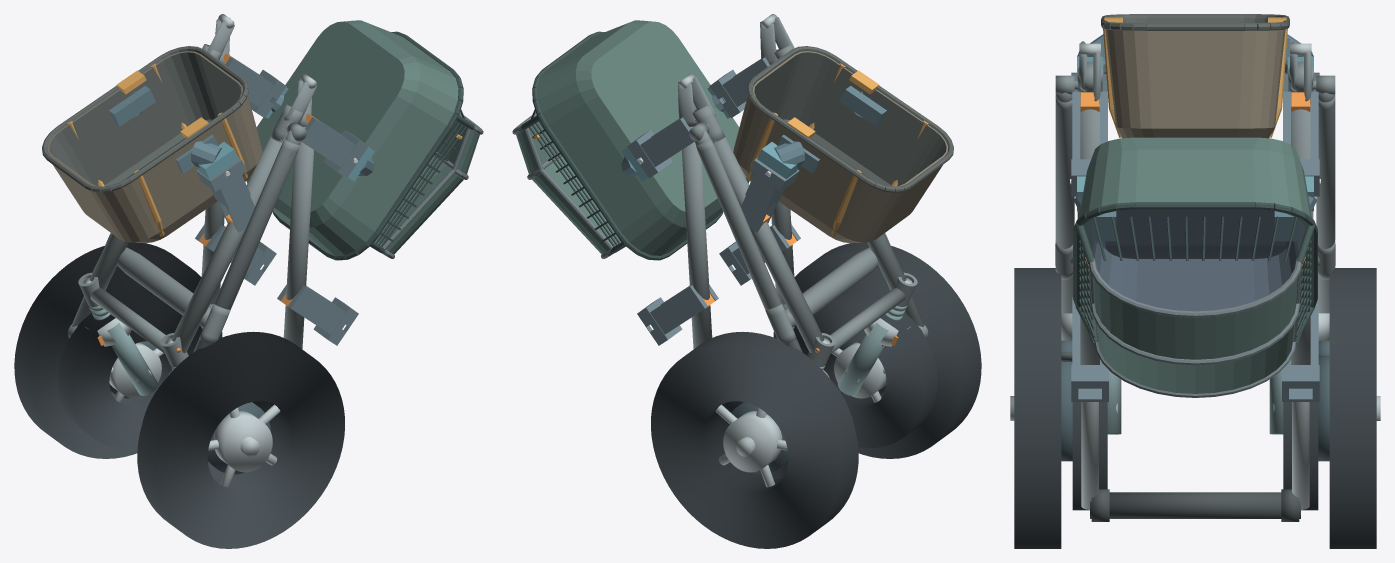
File: D35_w380_state3_wheel_L.glb
3 views of the same model, side by side, from view 1: azimuth 30°, elevation 25°; view 2: azimuth 150°, elevation 25°; view 3: azimuth 270°, elevation 25° (orthographic). The views are drawn at different scales.
Visible parts, largest first — view 1: D35_Upper, RL_tire.013, D35_Lower, RR_tire.013, FR_tire.013, main_lower_-1.001, main_upper_-1.001, V46_rear_leg_-1, D35_Lower_Mount_L, RL_sealed_hub.013, Universal_Cabin_Receiver_H_-1, V46_rearbar (+12 smaller); view 2: RR_tire.013, D35_Upper, D35_Lower, RL_tire.013, FL_tire.013, main_upper_1.001, main_lower_1.001, V46_rear_leg_1, D35_Lower_Mount_L, RR_sealed_hub.013, Universal_Cabin_Receiver_H_1, V46_rearbar (+14 smaller); view 3: D35_Upper, D35_Lower, RL_tire.013, RR_tire.013, round_handle.012, V46_rear_leg_1, V46_rear_leg_-1, Universal_Cabin_Receiver_H_1, Universal_Cabin_Receiver_H_-1, FL_tire.013, FR_tire.013, handle_slider_1.012 (+15 smaller).
Part boxes in pixels (x1,y1,x2,y2): D35_Upper: (246, 20, 483, 260); RL_tire.013: (137, 331, 344, 548); D35_Lower: (42, 46, 262, 243); RR_tire.013: (14, 242, 222, 458); FR_tire.013: (58, 291, 202, 447); main_lower_-1.001: (171, 133, 287, 353); main_upper_-1.001: (283, 126, 313, 349); V46_rear_leg_-1: (193, 139, 299, 352); D35_Lower_Mount_L: (109, 86, 238, 178); RL_sealed_hub.013: (213, 411, 272, 472); Universal_Cabin_Receiver_H_-1: (277, 285, 358, 345); V46_rearbar: (117, 247, 211, 327); RR_tire.013: (651, 331, 858, 548); D35_Upper: (512, 20, 749, 260); D35_Lower: (733, 46, 953, 243); RL_tire.013: (773, 242, 981, 458); FL_tire.013: (793, 291, 937, 447); main_upper_1.001: (682, 126, 712, 349); main_lower_1.001: (708, 133, 824, 353); V46_rear_leg_1: (696, 139, 802, 352); D35_Lower_Mount_L: (757, 86, 886, 178); RR_sealed_hub.013: (723, 411, 782, 472); Universal_Cabin_Receiver_H_1: (637, 285, 718, 345); V46_rearbar: (784, 247, 878, 327); D35_Upper: (1073, 137, 1317, 397); D35_Lower: (1101, 14, 1289, 138); RL_tire.013: (1014, 268, 1061, 548); RR_tire.013: (1329, 268, 1376, 548); round_handle.012: (1090, 492, 1300, 518); V46_rear_leg_1: (1316, 94, 1335, 313); V46_rear_leg_-1: (1055, 94, 1074, 313); Universal_Cabin_Receiver_H_1: (1282, 297, 1319, 401); Universal_Cabin_Receiver_H_-1: (1071, 297, 1108, 401); FL_tire.013: (1072, 402, 1107, 510); FR_tire.013: (1283, 402, 1318, 510); handle_slider_1.012: (1292, 402, 1309, 509).
Bounding box in the file's own units: 0.7543 × 0.7725 × 0.4748.
